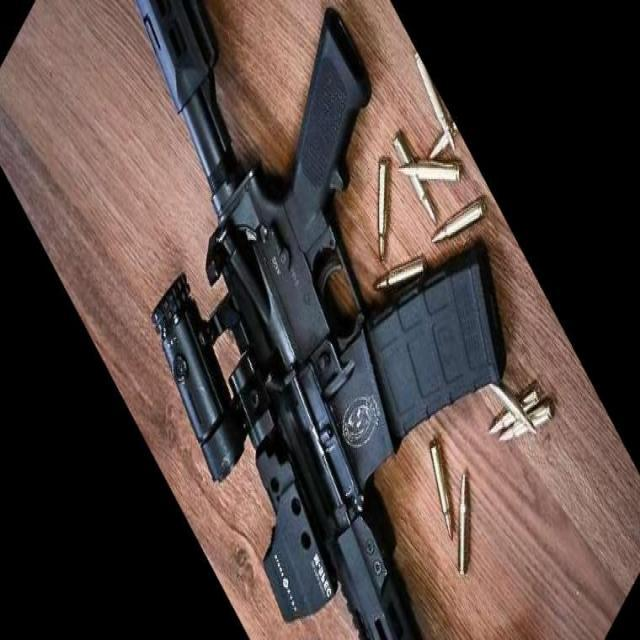weapon: (136, 0, 508, 640)
